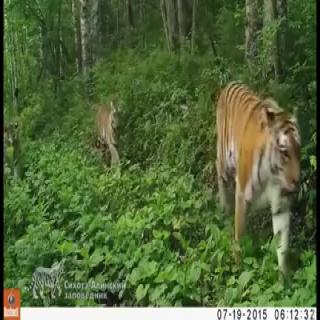Tiger: (206, 71, 306, 281), (87, 92, 124, 178)
